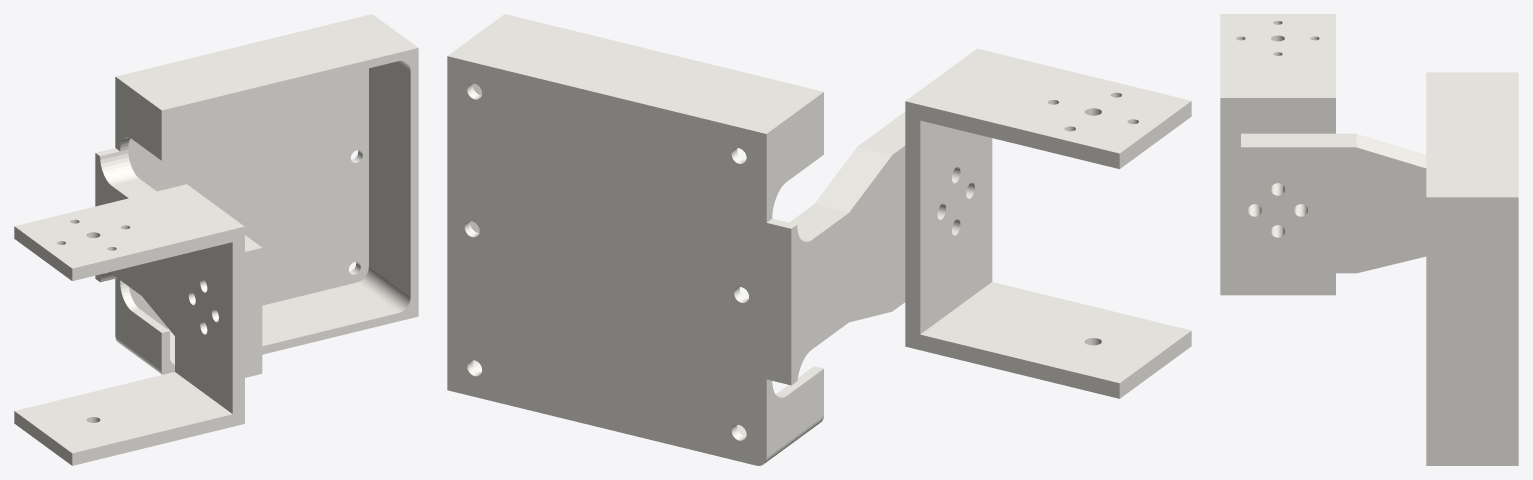
File: lrf_mounter_link.dae
The picture shows the model from 3 angles, left to right: view 1: azimuth 30°, elevation 25°; view 2: azimuth 150°, elevation 25°; view 3: azimuth 270°, elevation 25°; orthographic projection. The views are drawn at different scales.
Parts seen in each view (by area): view 1: lrf_mounter; view 2: lrf_mounter; view 3: lrf_mounter.
Part boxes in pixels (bbox=[...]): lrf_mounter: bbox=[14, 14, 418, 465]; lrf_mounter: bbox=[447, 14, 1191, 465]; lrf_mounter: bbox=[1220, 14, 1518, 465].
Bounding box in the file's own units: 0.112 × 0.0645 × 0.064.
1 material, 1 textured.
